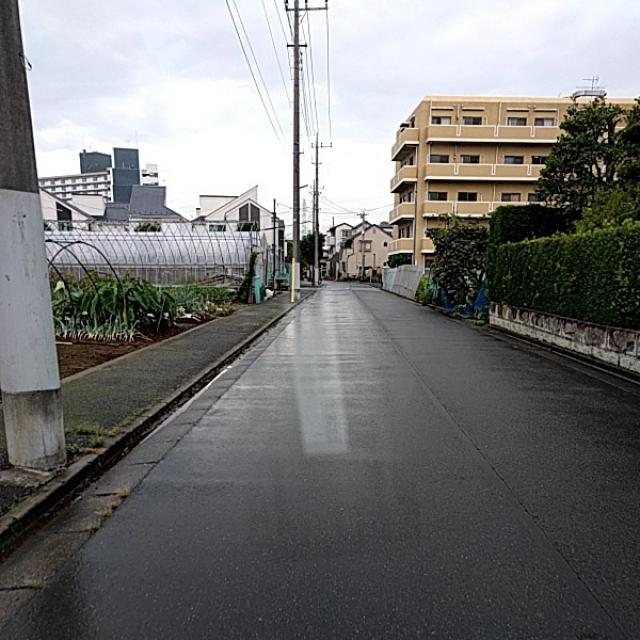pothole: (98, 488, 138, 534)
